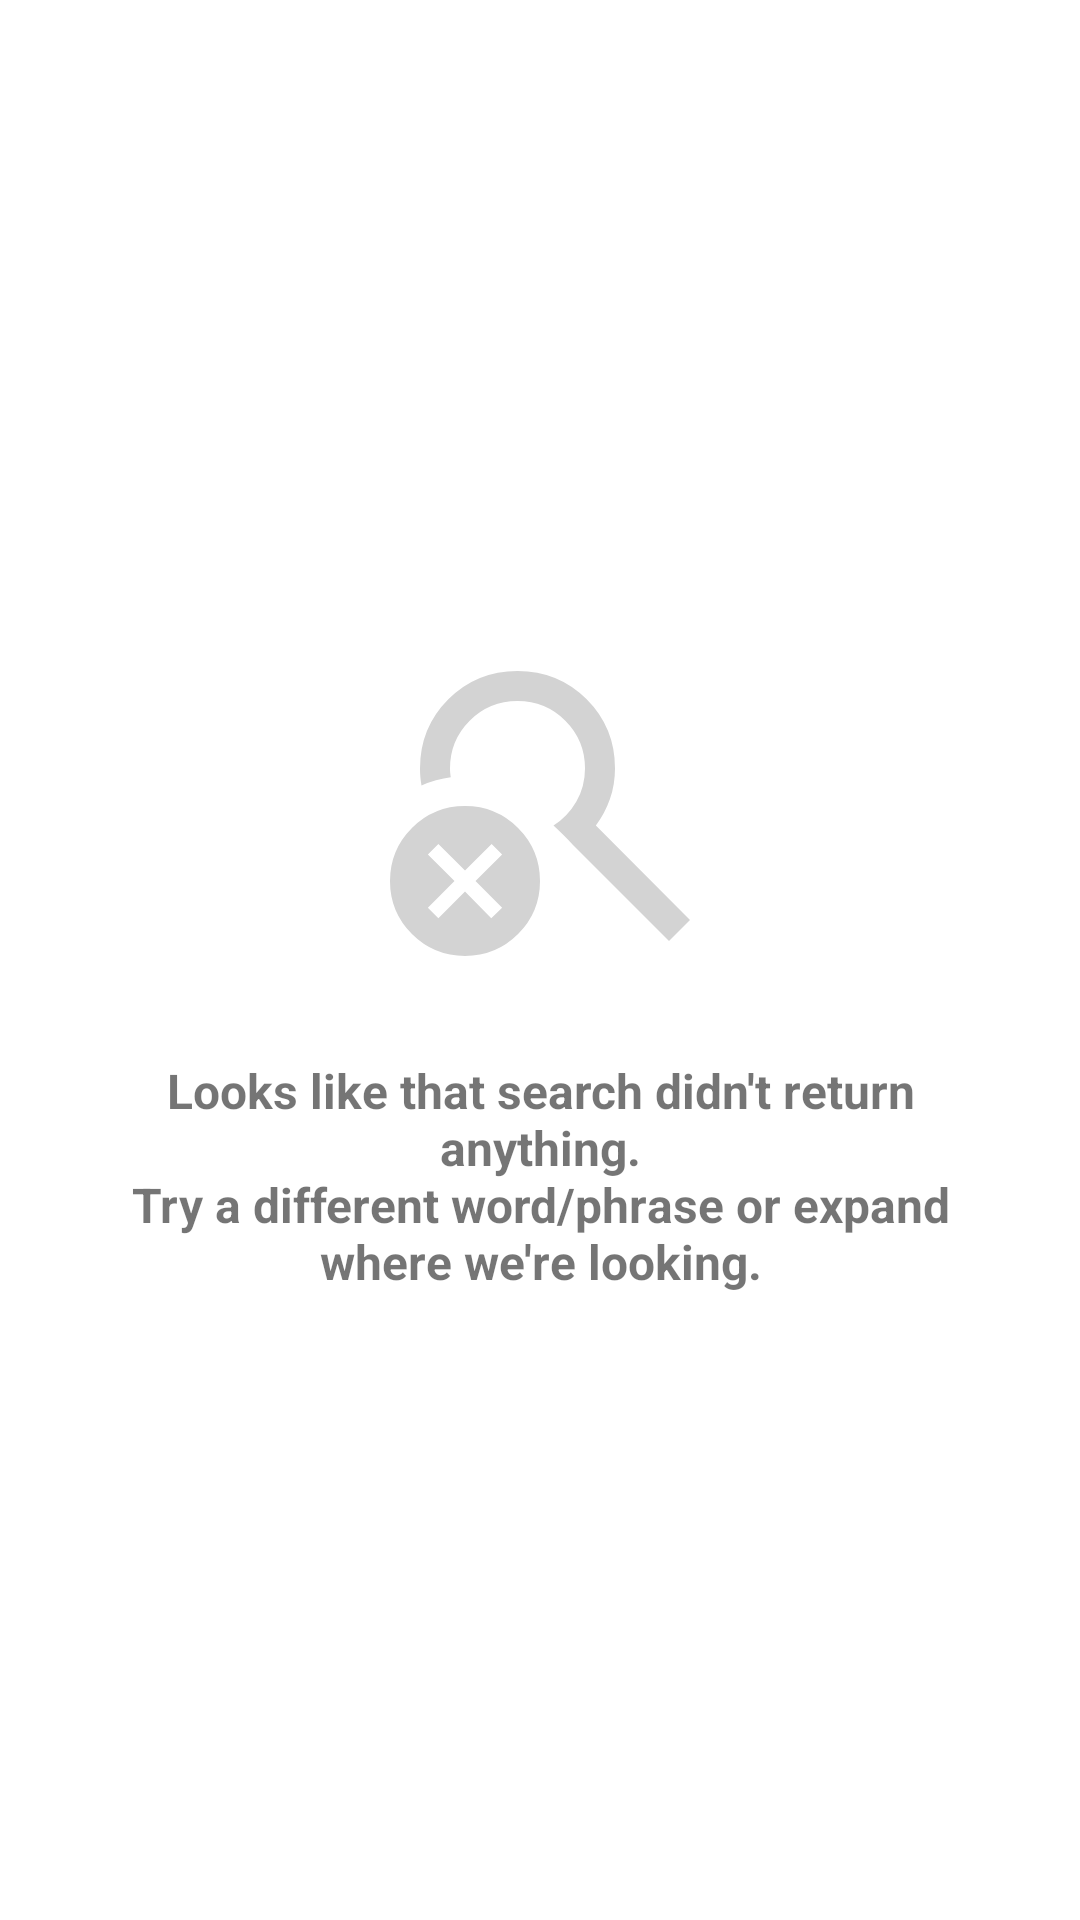

Icon bounding boxes for this 1080w x 1920h phone screenshot, format (x1, y1, x2, y2):
search off: (390, 671, 689, 956)
